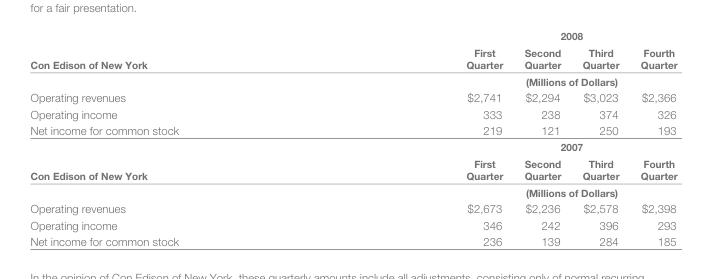table: (29, 29, 676, 247)
table column: (29, 29, 321, 247), (321, 29, 513, 247), (513, 29, 571, 247), (571, 29, 629, 247), (629, 29, 676, 247)
table column header: (29, 29, 676, 88)
table row: (29, 43, 676, 72), (29, 154, 676, 183), (29, 88, 676, 105), (29, 121, 676, 138), (29, 199, 676, 216), (29, 72, 676, 88), (29, 105, 676, 121), (29, 138, 676, 154), (29, 183, 676, 199), (29, 216, 676, 232), (29, 232, 676, 247), (29, 29, 676, 43)
table spanning cell: (29, 29, 321, 88), (29, 154, 321, 199), (29, 121, 321, 154), (321, 72, 676, 88), (321, 138, 676, 154), (321, 183, 676, 199), (321, 29, 676, 43)
